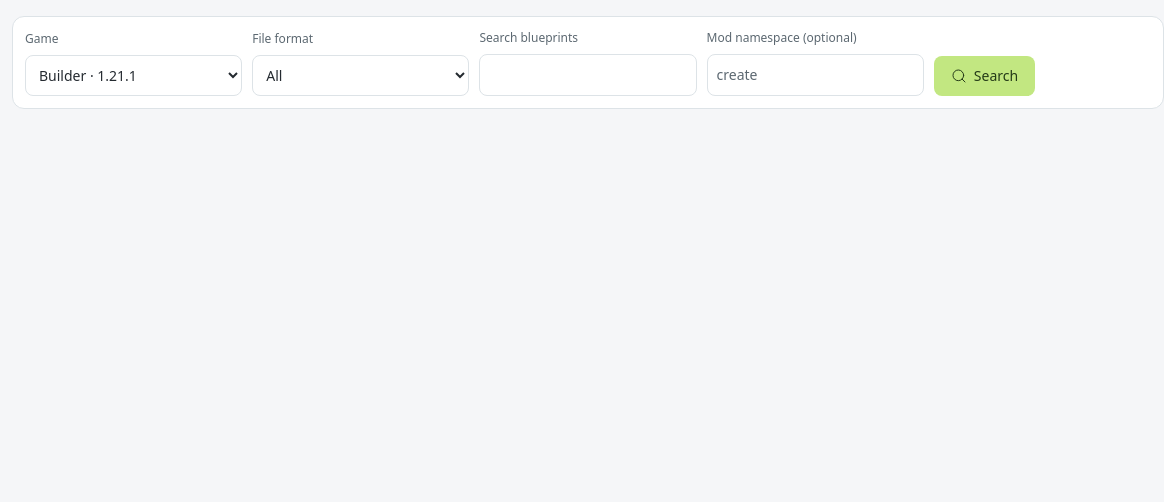
Test case: renders the detail license exactly and keeps an unknown license unknown (MIT)
Submit the form, box x1=12 y1=16 x2=1163 y2=109
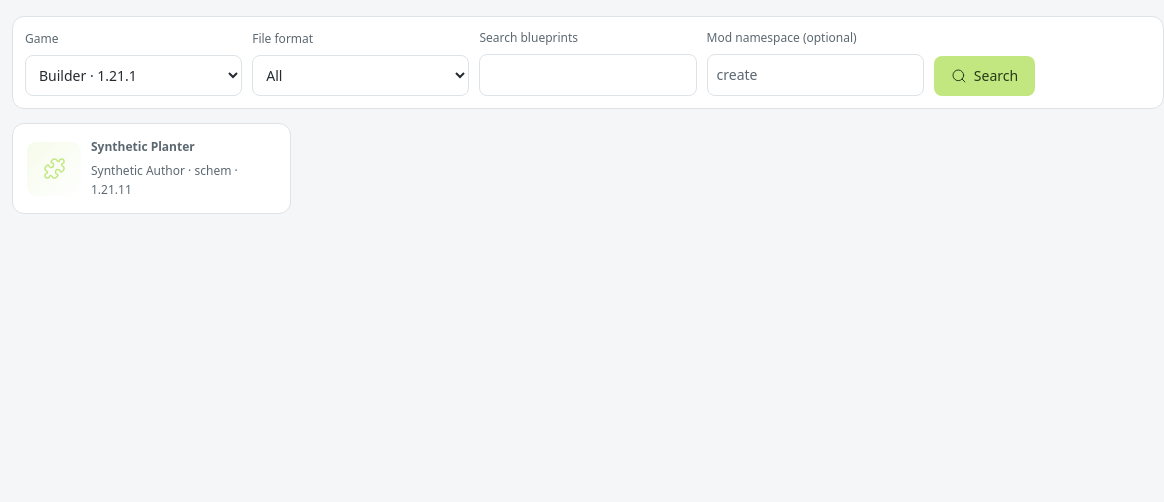
Click the button "Synthetic Planter Synthetic Author · schem · 1.21.11" at x=152, y=169, box x1=23 y1=134 x2=280 y2=203
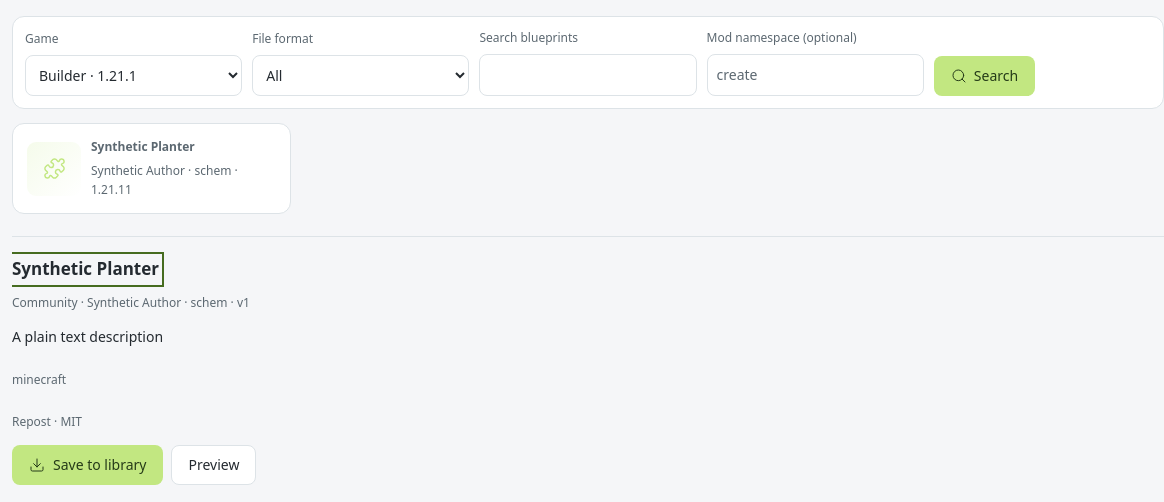
Expected: the element with class "online-detail" shows "MIT", x1=12 y1=413 x2=82 y2=430
